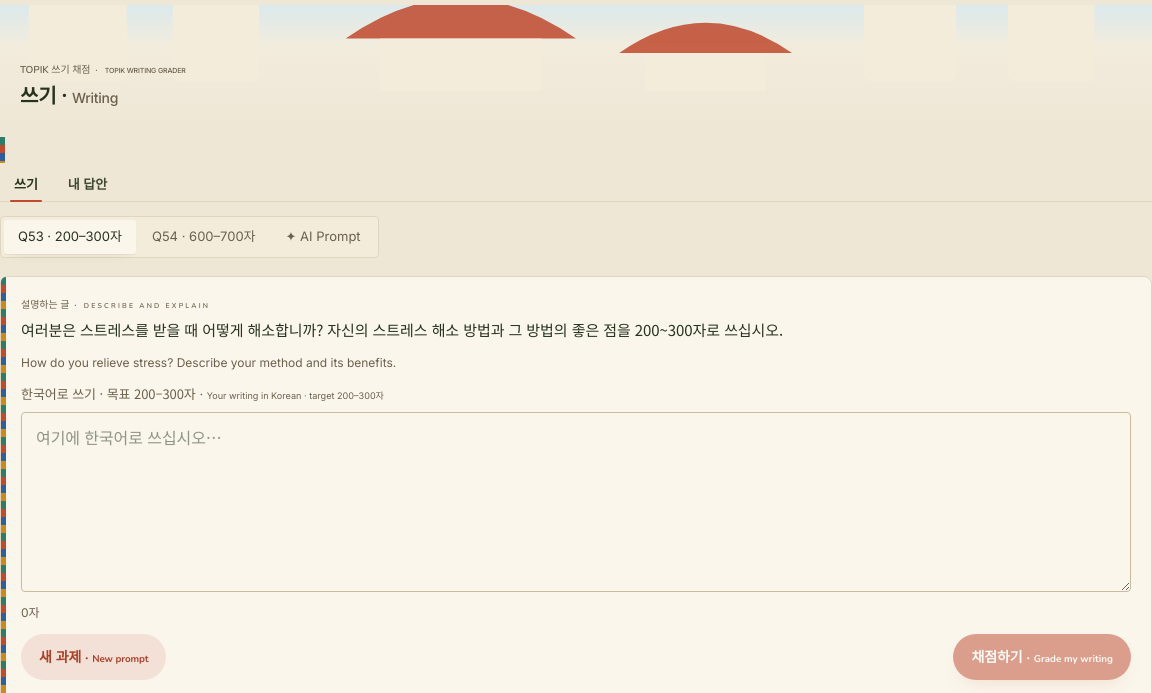
Test case: Writing › surfaces a 429 with the structured retryAfter and preserves the text
Check: the text "스트레스 해소 방법" is shown, box [21,318,783,340]
Type "안녕하세요" into the text box labelled "Your writing in Korean" at point(576, 502), box [21,412,1131,592]
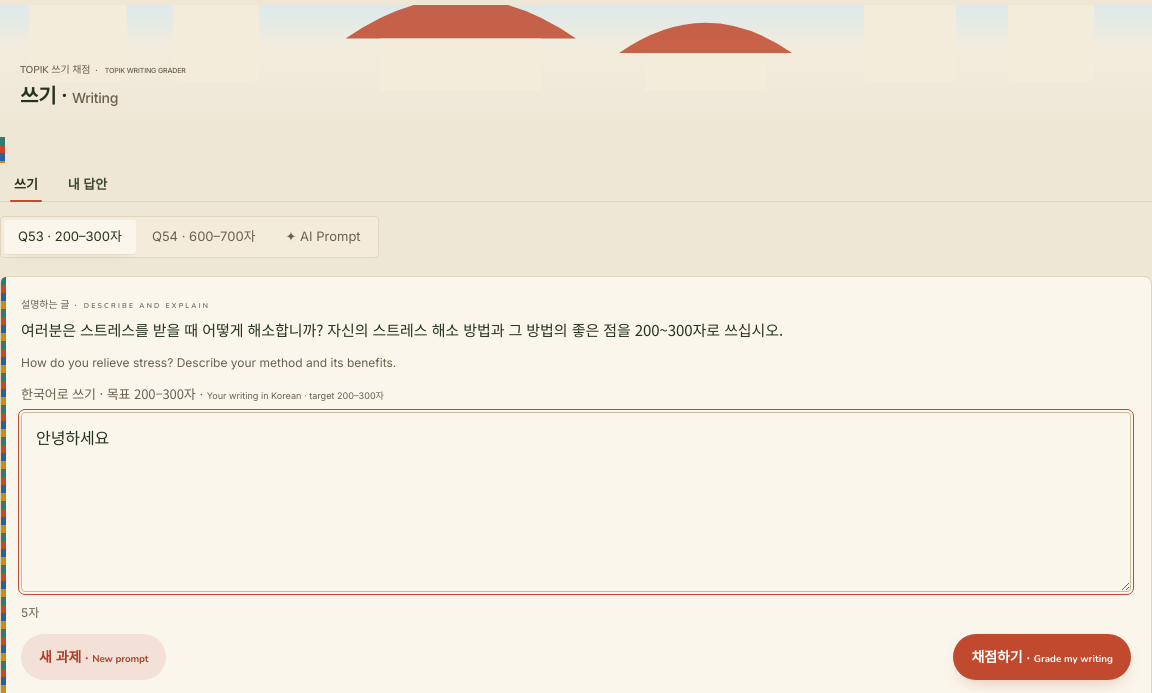
Click the button "채점하기 · Grade my writing" at point(1042, 657), box [953,634,1131,680]
(page scrolled)
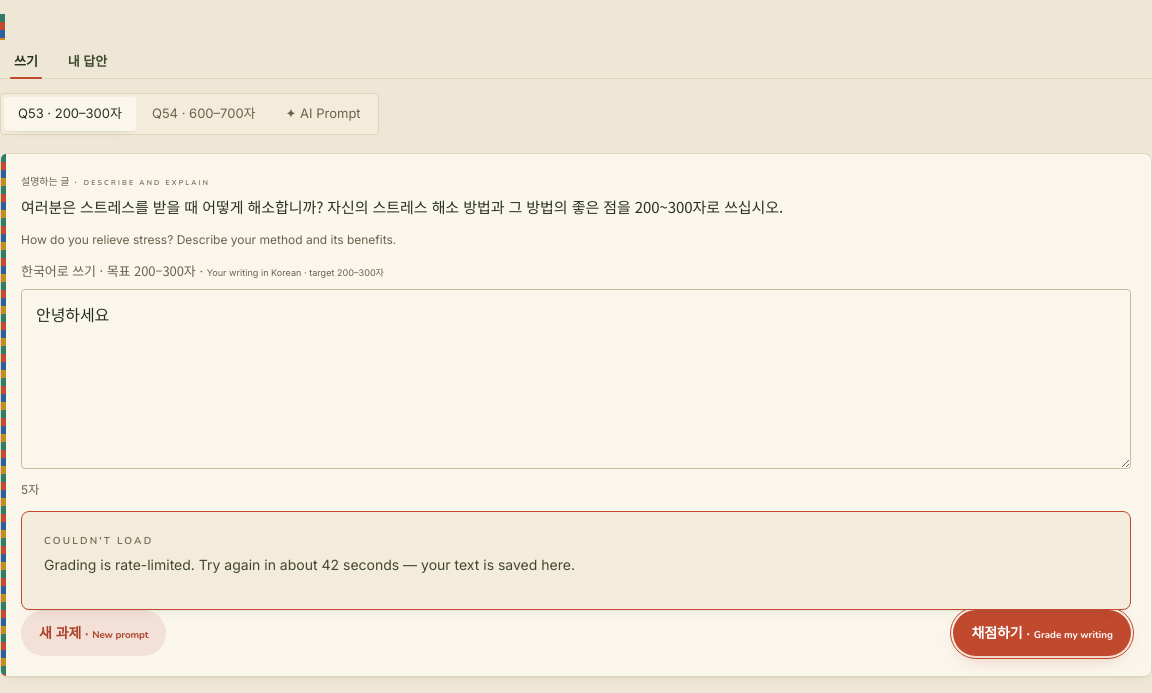
Check: the button "채점하기 · Grade my writing" is enabled, box [953,610,1131,656]
Check: the message shows "rate-limited", box [44,556,575,573]
Check: the message shows "42 seconds", box [44,556,575,573]
